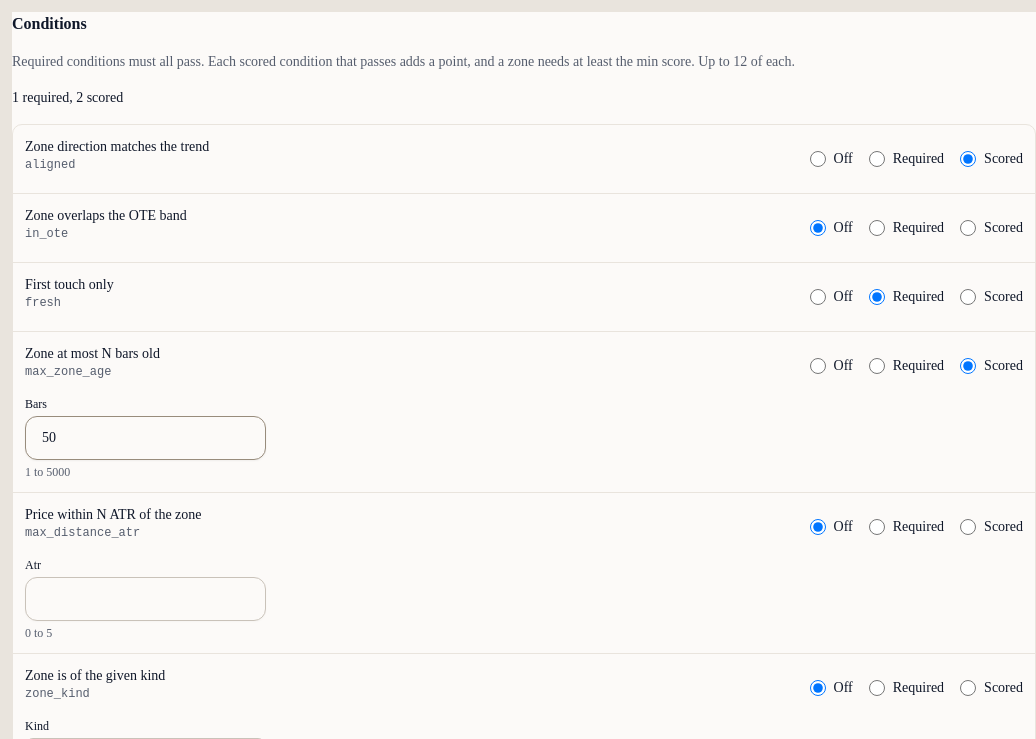
Test: ConditionBuilder › bounds min_score by the scored count and lowers it when a scored condition goes
Click the radio button labelled "Off" in the row of "Zone at most N bars old" at (818,366), box x1=810 y1=358 x2=826 y2=374
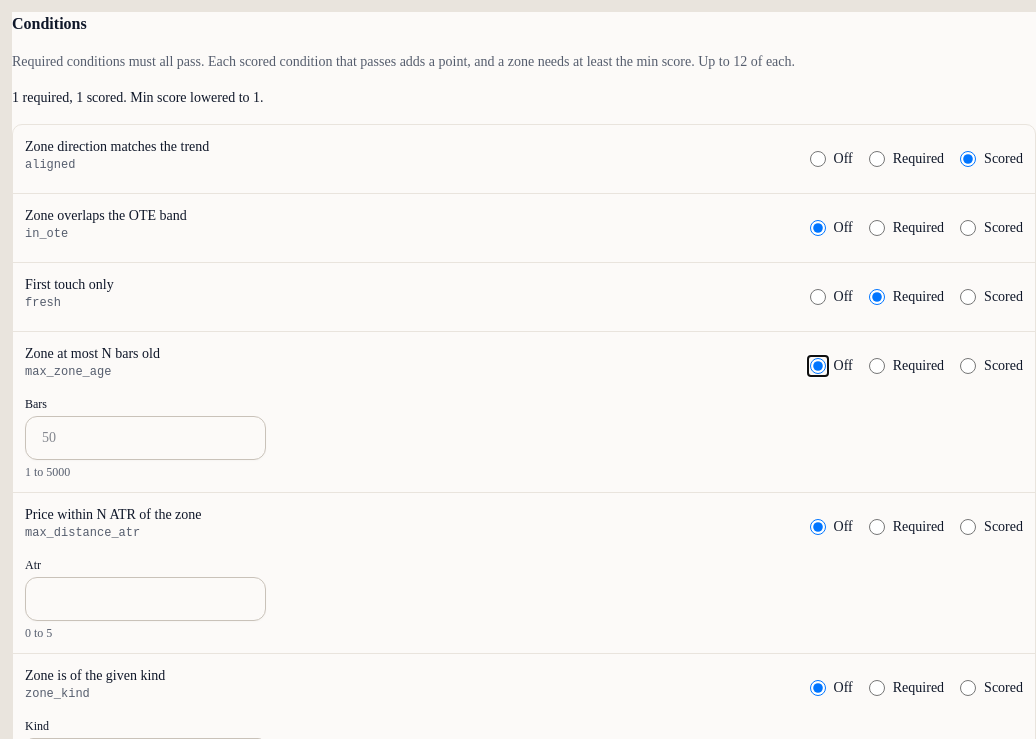
Expected: the message with test id "condition-counts" reads "1 required, 1 scored. Min score lowered to 1.", x1=12 y1=90 x2=264 y2=105
# A change that needs no lowering clears the notice.
Click the radio button labelled "Scored" in the row of "Zone overlaps the OTE band" at (968,228), box x1=960 y1=220 x2=976 y2=236
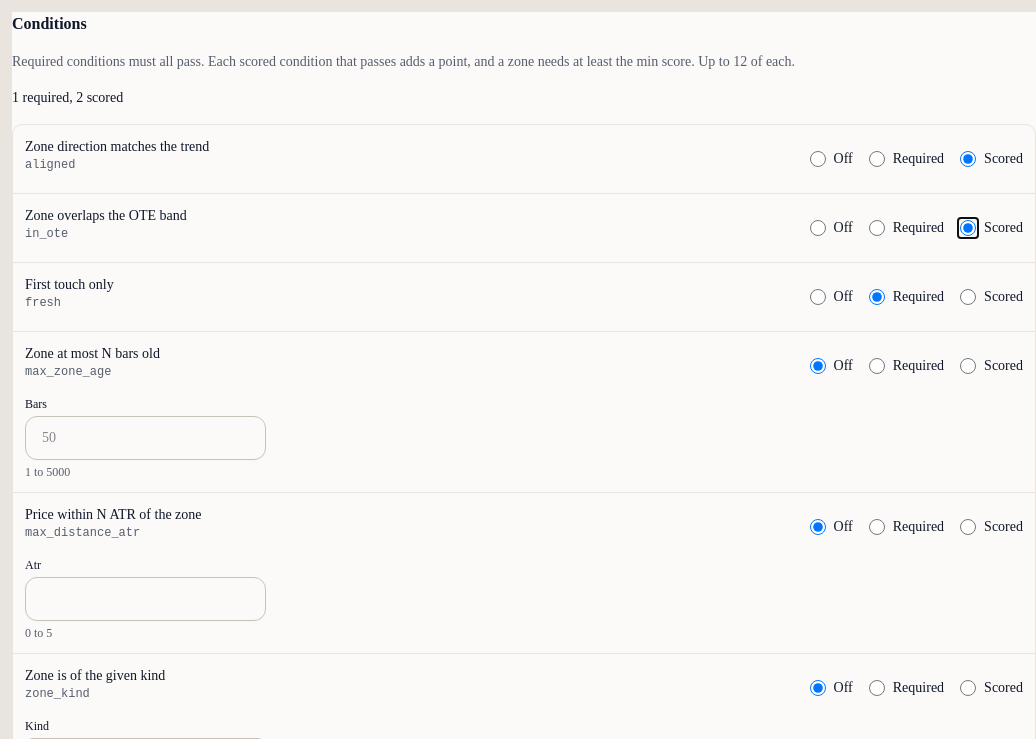
Expected: the message with test id "condition-counts" reads "1 required, 2 scored", x1=12 y1=90 x2=123 y2=105
